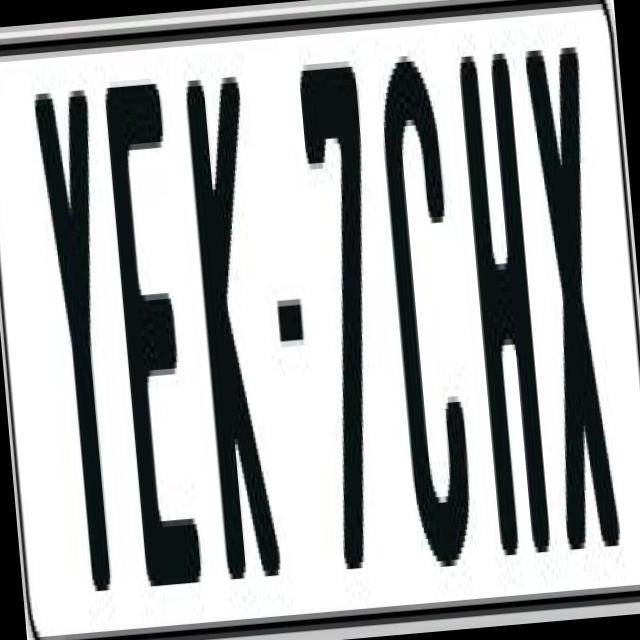7: (294, 59, 402, 576)
C: (375, 47, 485, 557)
E: (102, 66, 206, 586)
H: (456, 53, 550, 567)
K: (180, 58, 284, 597)
X: (520, 34, 627, 550)
Y: (28, 83, 133, 616)
